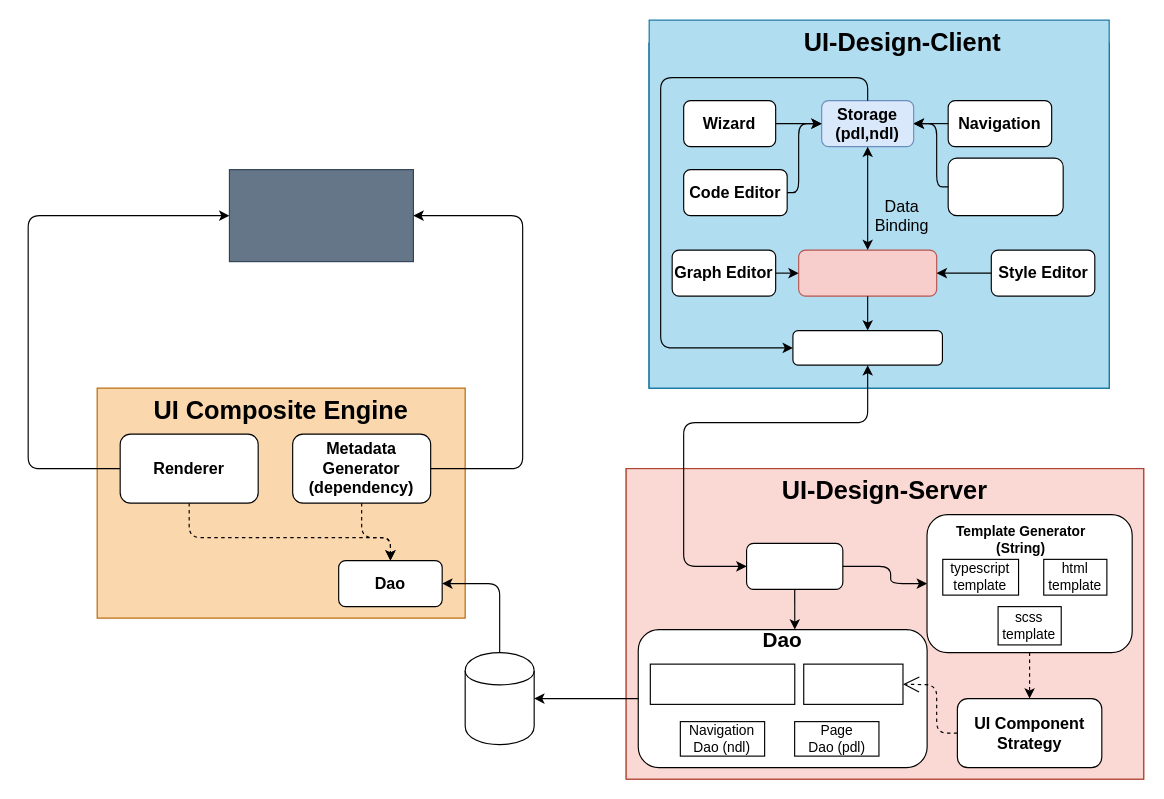
Some shapes in this 1164 by 799 pixel diagram are drawn without their labels. The shapes that lost their labels are listed below. From the top down, each one's centre as x and y in pixels, then its label:
At (1005,186): "Service Component Mapping".
At (320,215): "Angular Web App".
At (867,272): "GraphStorage (mxGraph vertex)".
At (867,347): "Http Client Service".
At (794,565): "Controller".
At (499,698): "DB".
At (722,683): "ServiceComponent Dao".
At (853,683): "Template Dao".
